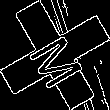M_NE: (22, 22, 88, 88)
